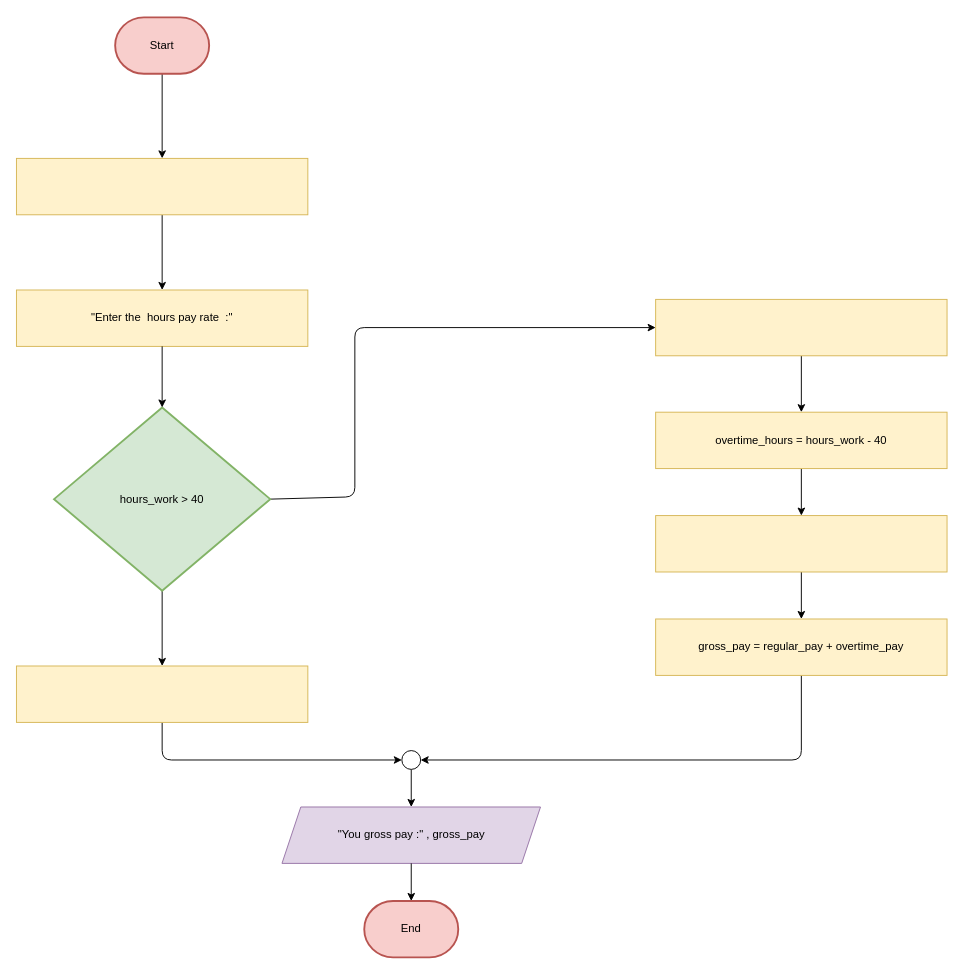
Image size: 964x974. Some labels were removed from this diagram. Here are the shapes that lost their labels. From the top down, the centre of each, then its label:
point 162,186: "Enter the number hours work :"
point 801,327: regular_pay = 40 * hours_pay_tate
point 801,543: overtime_pay = overtime_hours * (1.5 * hours_pay_rate)
point 162,693: gross_pay = hours_work * hours_pay_rate
